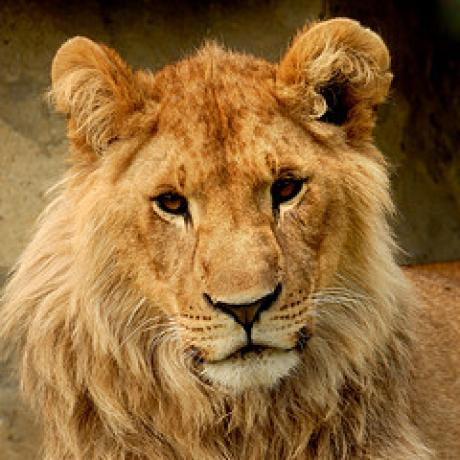Lion: (2, 11, 458, 460)
